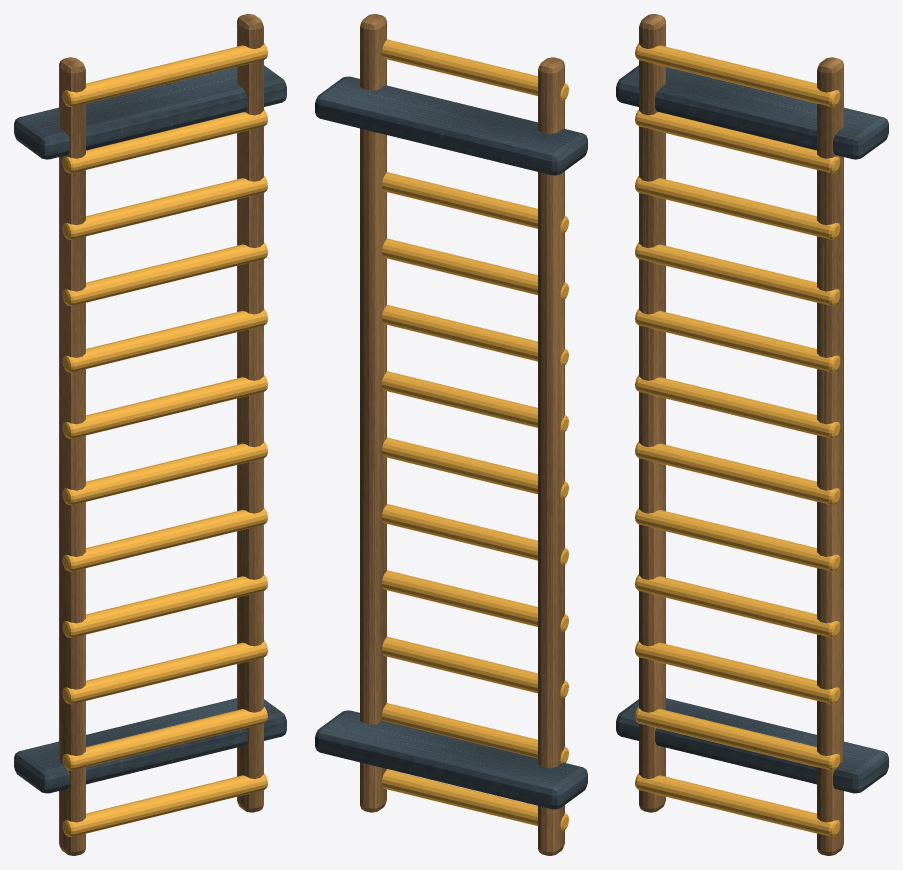
File: ladder.glb
3 views of the same model, side by side, from view 1: azimuth 30°, elevation 25°; view 2: azimuth 150°, elevation 25°; view 3: azimuth 330°, elevation 25° (orthographic).
Parts seen in each view (by area): view 1: ladder; view 2: ladder; view 3: ladder.
Part boxes in pixels (x1,y1,x2,y2): ladder: (14, 14, 286, 855); ladder: (315, 14, 587, 855); ladder: (616, 14, 888, 855).
Bounding box in the file's own units: 1.3 × 4 × 0.33.
3 materials, 2 textured.
